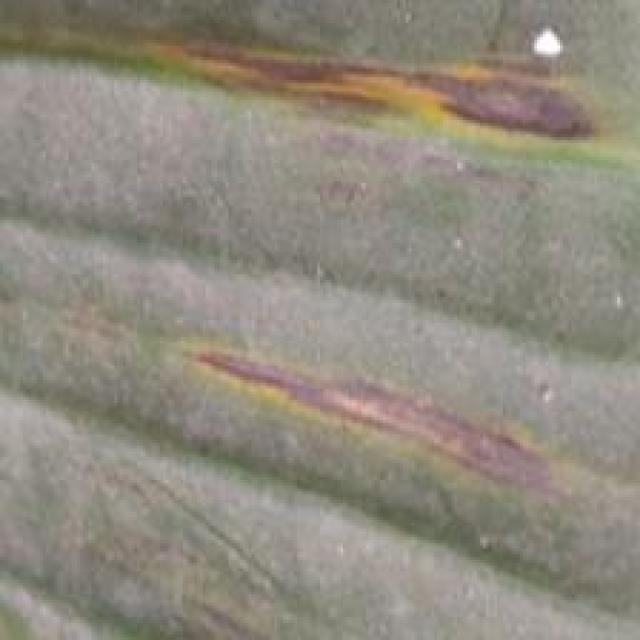Early_leaf_spot: (68, 12, 604, 156), (178, 318, 552, 496)
